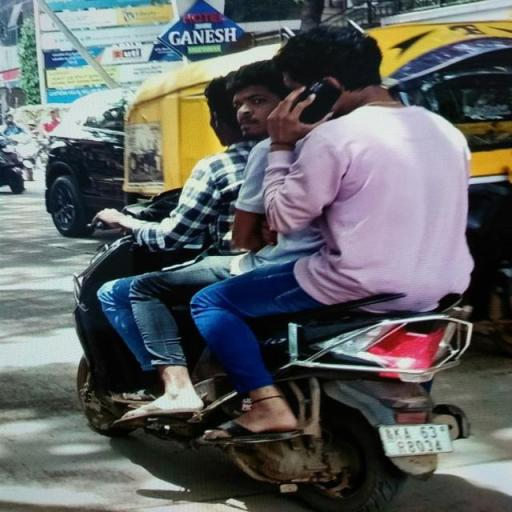tripple riding: (78, 21, 512, 303)
